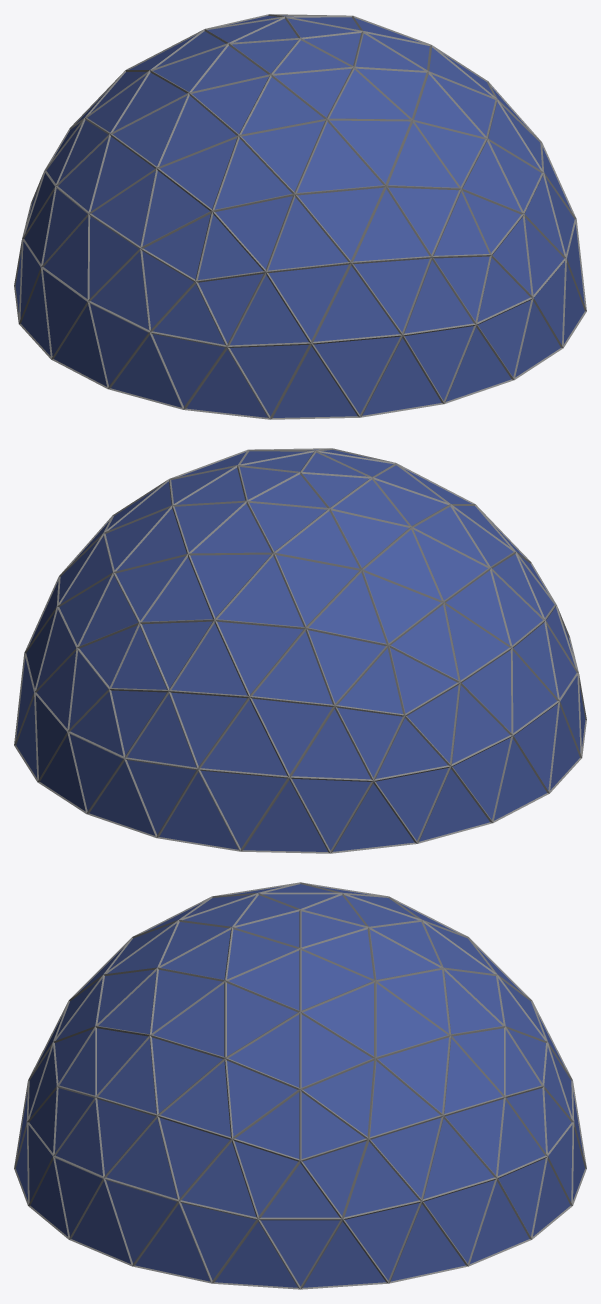
The model's file is Dome_GWJ99glb.glb.
3 views of the same model, one above another, from view 1: azimuth 30°, elevation 25°; view 2: azimuth 150°, elevation 25°; view 3: azimuth 270°, elevation 25° (orthographic).
Visible parts, largest first — view 1: DomeWindow, DomeMetal; view 2: DomeWindow, DomeMetal; view 3: DomeWindow, DomeMetal.
Part boxes in pixels (x1,y1,x2,y2): DomeWindow: [15, 15, 584, 417]; DomeMetal: [14, 14, 586, 419]; DomeWindow: [16, 449, 585, 851]; DomeMetal: [14, 448, 586, 853]; DomeWindow: [16, 884, 584, 1287]; DomeMetal: [14, 882, 586, 1289].
Bounding box in the file's own units: 4.33 × 2.17 × 4.33.
